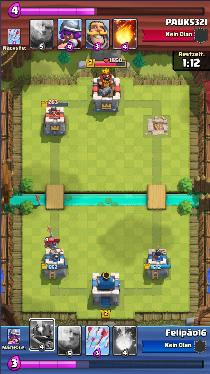enemy_mini_pekka: (44, 237, 58, 249)
